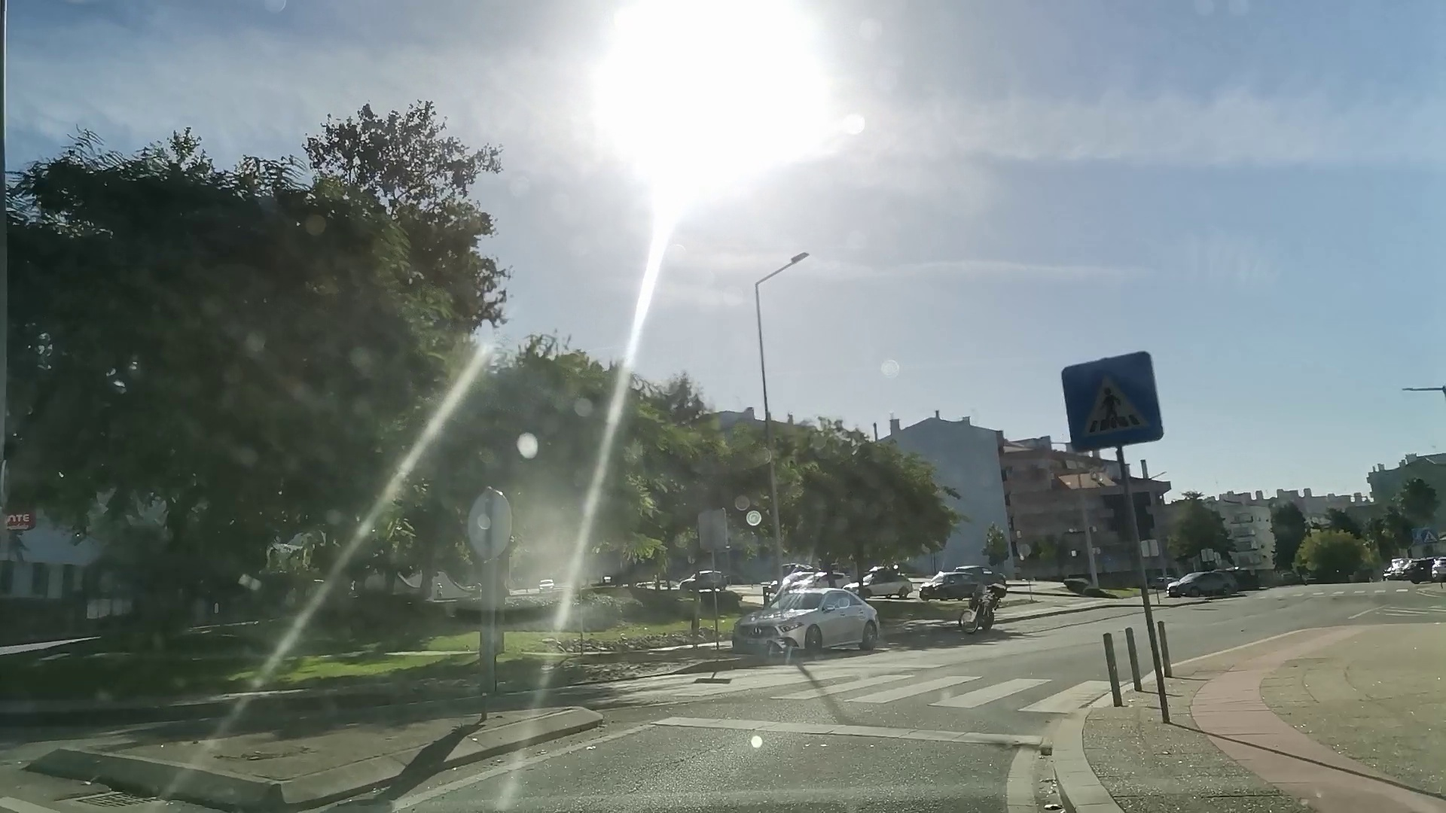Stairs: (579, 664, 1127, 719)
